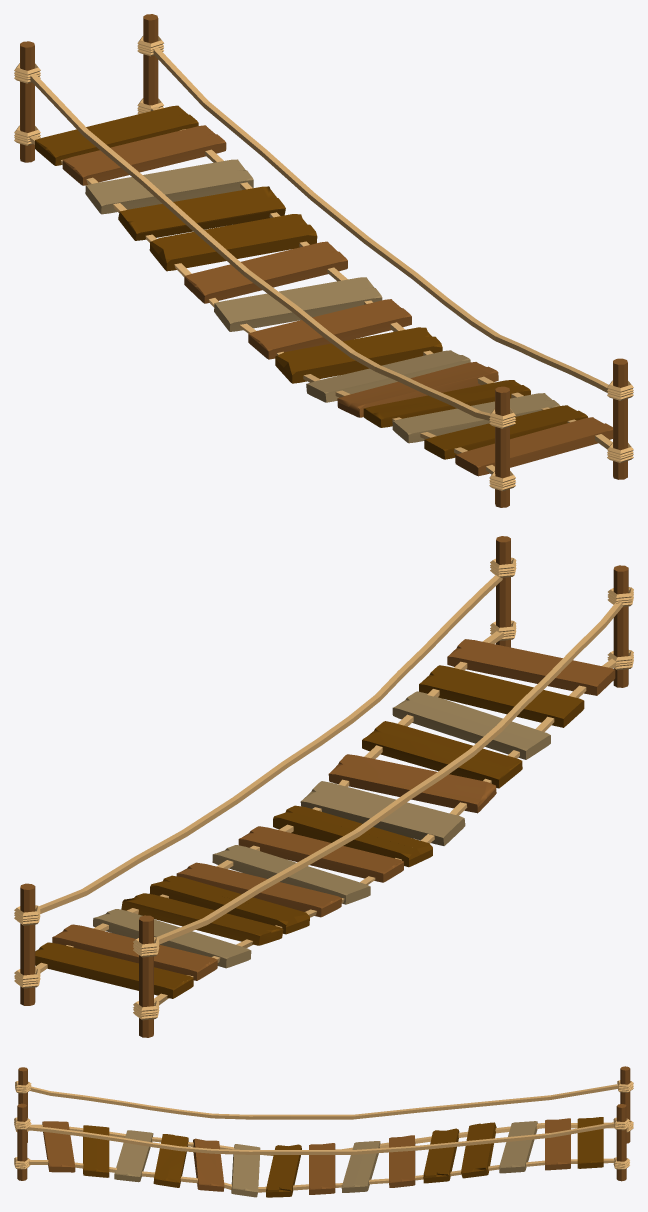
The model's file is PONTE.MAIOR.fbx.
3 renders of one model, top to bottom at view 1: azimuth 30°, elevation 25°; view 2: azimuth 150°, elevation 25°; view 3: azimuth 270°, elevation 25°, orthographic. The views are drawn at different scales.
Visible parts, largest first — view 1: Cube.014, Cube.012, Cube.013, Cube.015, Cube.016, Cube.009, Cube.006, Cube.008, Cube.017, Cube.007, Cube.018, Cube (+11 smaller); view 2: Cube.012, Cube.013, Cube.004, Cube.001, Cube.003, Cube.005, Cube, Cube.002, Cube.007, Cube.006, Cube.018, Cube.014 (+11 smaller); view 3: Cube.012, Cube.013, Cube.015, Cube.014, Cube.003, Cube.006, Cube.002, Cube.016, Cube.008, Cube, Cube.004, Cube.001 (+11 smaller).
Boxes of the visible parts, x1,y1,x2,y2 form: Cube.014: [149, 214, 317, 271]; Cube.012: [30, 74, 490, 420]; Cube.013: [153, 48, 608, 392]; Cube.015: [118, 186, 285, 240]; Cube.016: [85, 159, 253, 214]; Cube.009: [184, 241, 347, 303]; Cube.006: [275, 327, 442, 383]; Cube.008: [214, 277, 382, 331]; Cube.017: [62, 125, 226, 185]; Cube.007: [248, 299, 411, 359]; Cube.018: [35, 105, 198, 165]; Cube: [455, 417, 612, 476]; Cube.012: [157, 602, 622, 944]; Cube.013: [39, 575, 502, 913]; Cube.004: [328, 754, 496, 813]; Cube.001: [419, 665, 584, 727]; Cube.003: [362, 721, 522, 788]; Cube.005: [300, 781, 465, 845]; Cube: [447, 639, 615, 695]; Cube.002: [392, 691, 550, 759]; Cube.007: [238, 826, 403, 882]; Cube.006: [273, 805, 432, 867]; Cube.018: [35, 942, 193, 998]; Cube.014: [149, 875, 309, 934]; Cube.012: [30, 1084, 617, 1119]; Cube.013: [26, 1122, 614, 1154]; Cube.015: [461, 1122, 496, 1178]; Cube.014: [423, 1128, 459, 1183]; Cube.003: [153, 1134, 188, 1187]; Cube.006: [266, 1144, 301, 1197]; Cube.002: [114, 1130, 153, 1182]; Cube.016: [499, 1121, 537, 1173]; Cube.008: [341, 1141, 380, 1192]; Cube: [42, 1121, 75, 1172]; Cube.004: [193, 1138, 224, 1191]; Cube.001: [83, 1125, 109, 1177].
Bounding box in the file's own units: 11.23 × 9.75 × 62.39.
